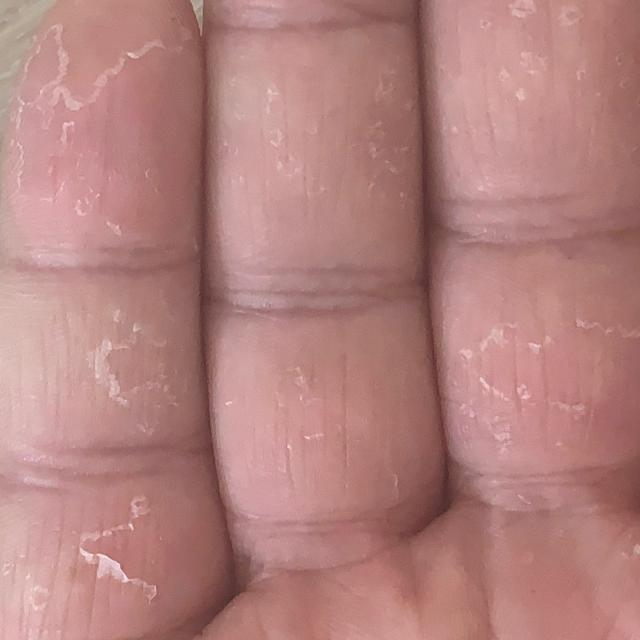Eczema: (38, 5, 640, 563)
